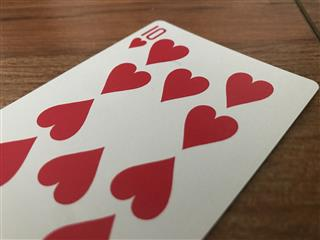TenOfHearts: (1, 18, 320, 240)
